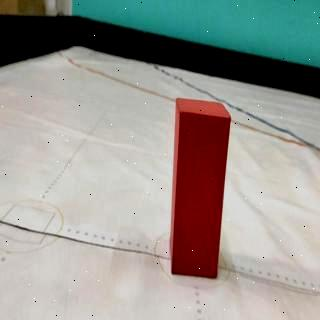redbox: (174, 99, 225, 278)
